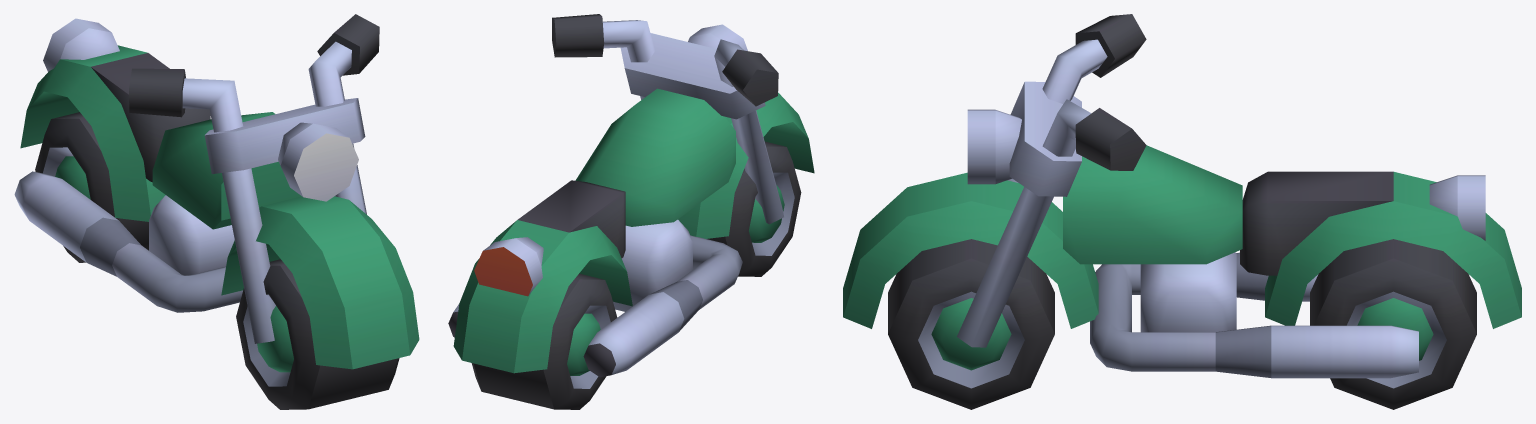
File: motorcycle.glb
The picture shows the model from 3 angles, left to right: view 1: azimuth 30°, elevation 25°; view 2: azimuth 150°, elevation 25°; view 3: azimuth 270°, elevation 25°; orthographic projection. The views are drawn at different scales.
Parts seen in each view (by area): view 1: fork, body, wheel-front, wheel-back; view 2: body, fork, wheel-back, wheel-front; view 3: body, fork, wheel-front, wheel-back.
Boxes of the visible parts, box(x1,y1,x2,y2) form: fork: box(129, 14, 419, 369); body: box(14, 18, 301, 312); wheel-front: box(236, 259, 399, 409); wheel-back: box(35, 112, 148, 262); body: box(448, 88, 742, 377); fork: box(552, 14, 814, 238); wheel-back: box(471, 273, 617, 409); wheel-front: box(707, 141, 801, 276); body: box(1063, 145, 1521, 378); fork: box(843, 14, 1146, 347); wheel-front: box(888, 239, 1054, 409); wheel-back: box(1310, 239, 1476, 409).
Size of the model in its own units: 1.09 by 1.27 by 2.44.
1 material, 1 textured.
